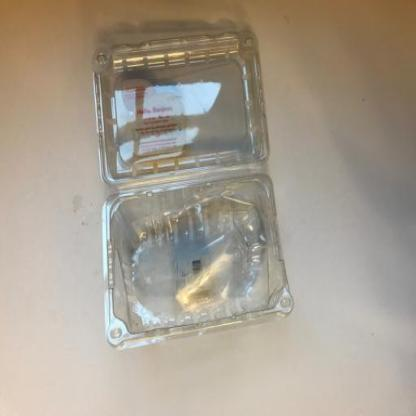trash: (76, 28, 296, 351)
